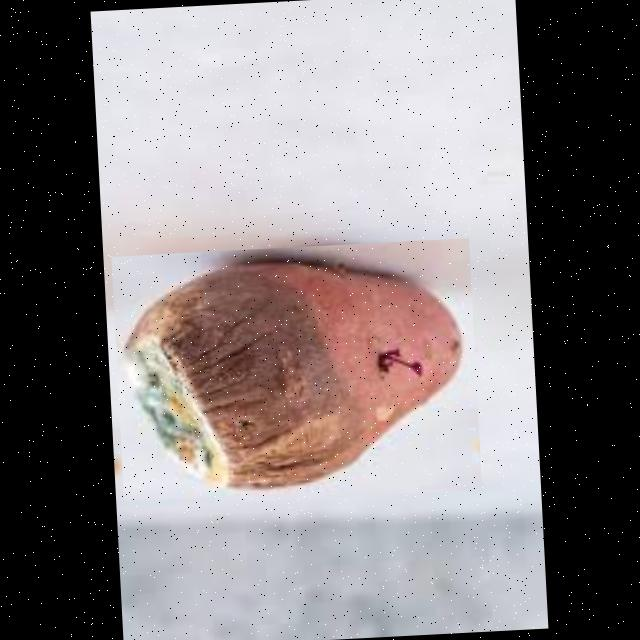Damaged potato: (111, 238, 482, 508)
